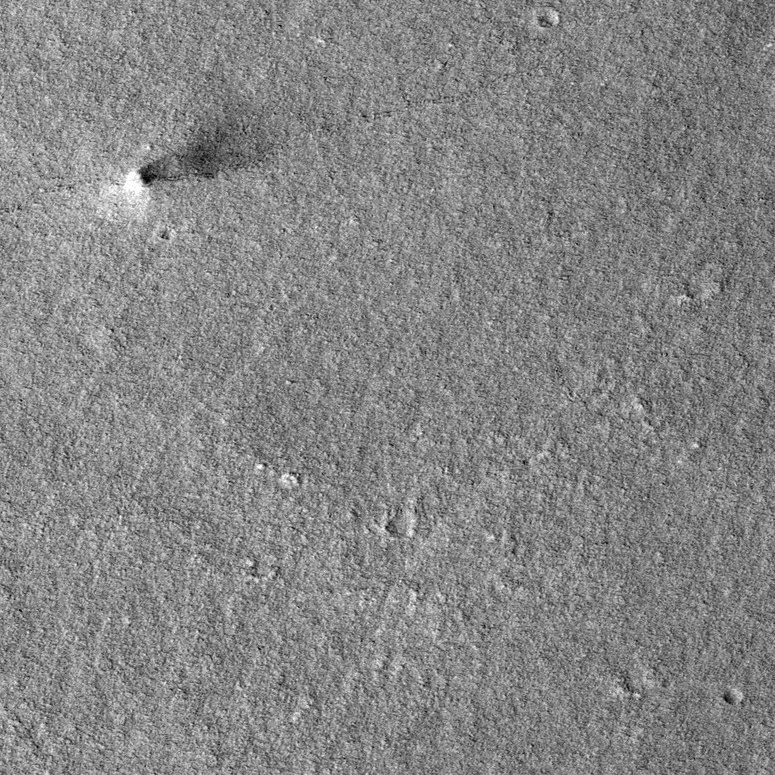dust_devil: (116, 115, 277, 202)
